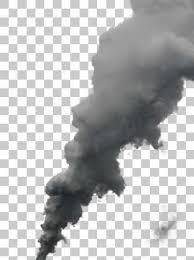smoke: (33, 0, 194, 260)
